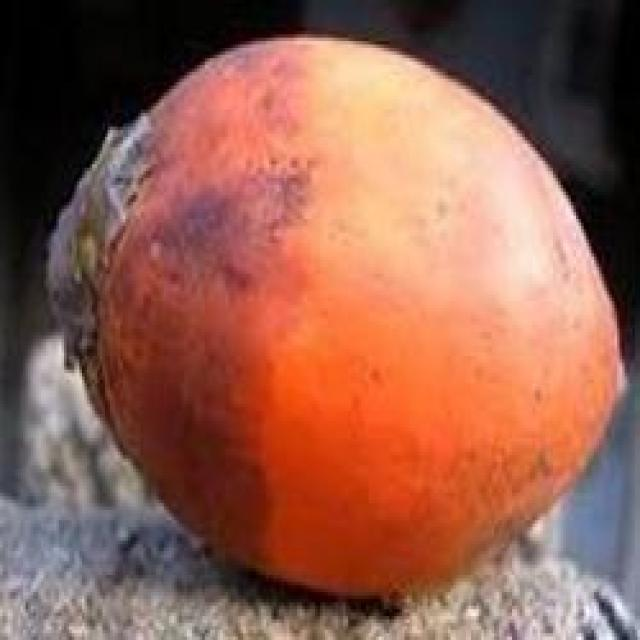good: (44, 34, 627, 613)
